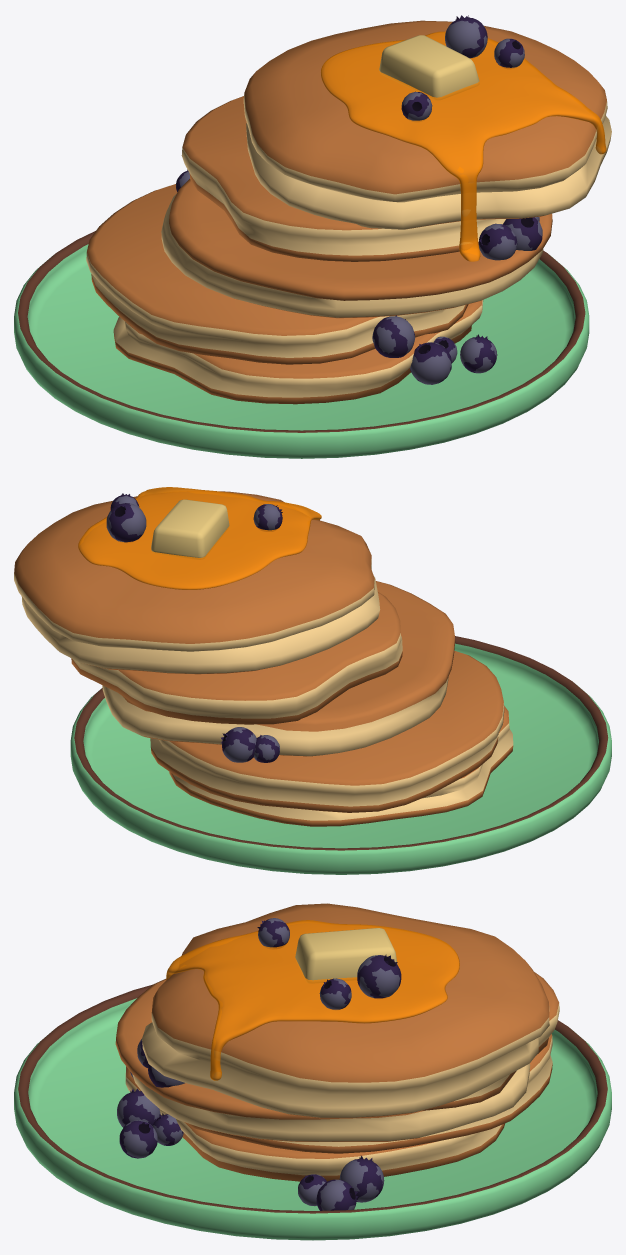
Rendered from pancakes.fbx.
3 renders of one model, top to bottom at view 1: azimuth 30°, elevation 25°; view 2: azimuth 150°, elevation 25°; view 3: azimuth 270°, elevation 25°, orthographic. The views are drawn at different scales.
Parts seen in each view (by area): view 1: pancake_tower, pancake_top; view 2: pancake_tower, pancake_top; view 3: pancake_tower, pancake_top.
Boxes of the visible parts, x1,y1,x2,y2 form: pancake_tower: [14, 96, 589, 458]; pancake_top: [243, 15, 611, 261]; pancake_tower: [70, 581, 611, 874]; pancake_top: [14, 487, 380, 674]; pancake_tower: [14, 972, 611, 1240]; pancake_top: [142, 903, 549, 1118].
Bounding box in the file's own units: 777 × 340 × 701.
